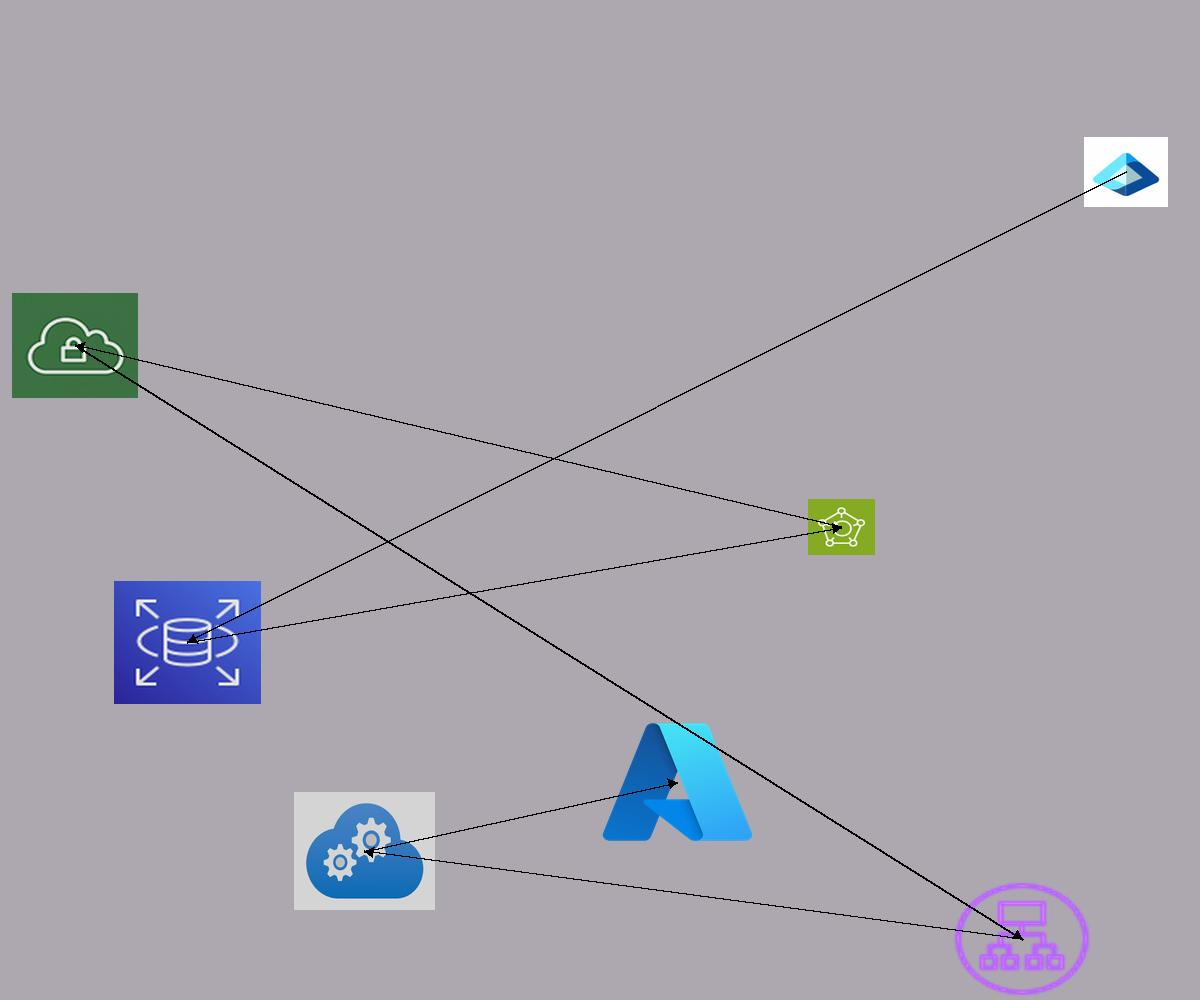AWS-Backup: (808, 499, 875, 555)
AWS-Private_vpc: (12, 293, 138, 398)
AWS-RDS: (114, 581, 261, 704)
AWS-Res_Elastic-Load-Balancing_Application-Load-Balancer: (949, 878, 1095, 1000)
Azure_cloud_services: (294, 792, 435, 910)
Azure_microsoft_entra: (1084, 137, 1168, 207)
Azure_services: (596, 714, 759, 850)
